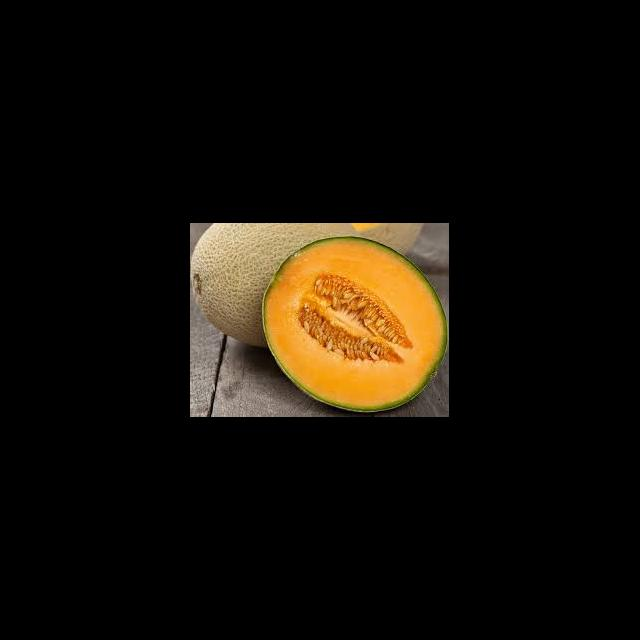Hami Melon: (262, 235, 449, 412)
